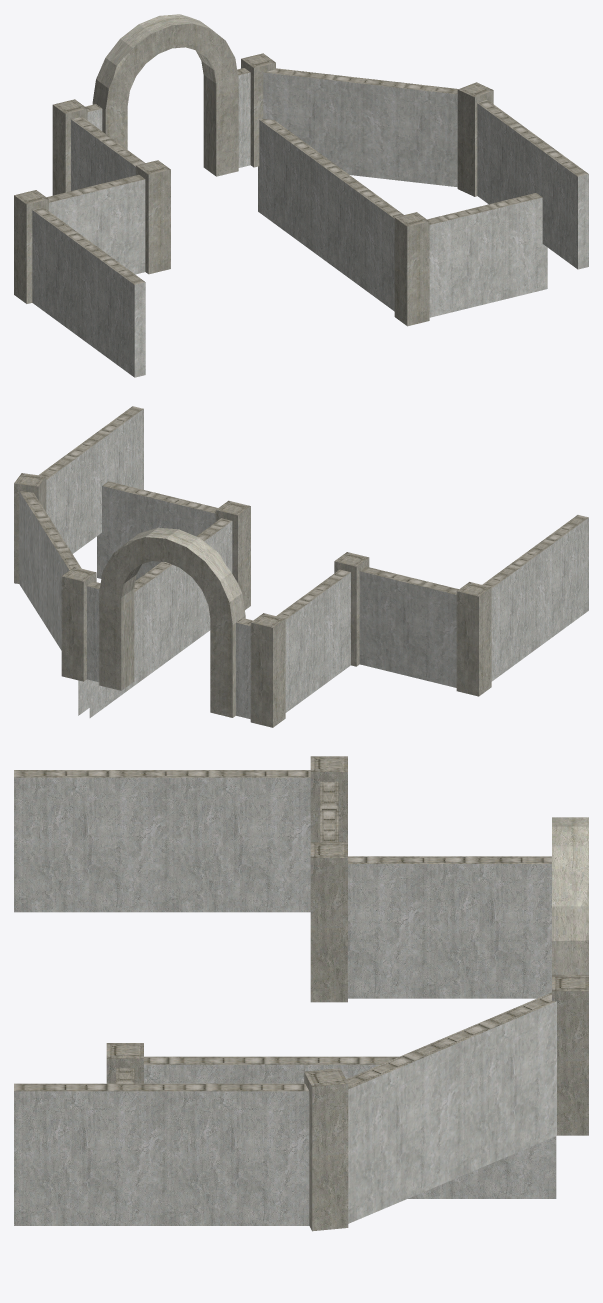
File: poi_corl_corral_half_32x32_s01_l0.fbx
The picture shows the model from 3 angles, top to bottom: view 1: azimuth 30°, elevation 25°; view 2: azimuth 150°, elevation 25°; view 3: azimuth 270°, elevation 25°; orthographic projection. The views are drawn at different scales.
Visible parts, largest first — view 1: mesh_node; view 2: mesh_node; view 3: mesh_node.
Part boxes in pixels (<box>): mesh_node: <box>14,14,588,377</box>; mesh_node: <box>14,406,588,727</box>; mesh_node: <box>14,756,588,1231</box>.
Size of the model in its own units: 21.1 by 9 by 15.5.
